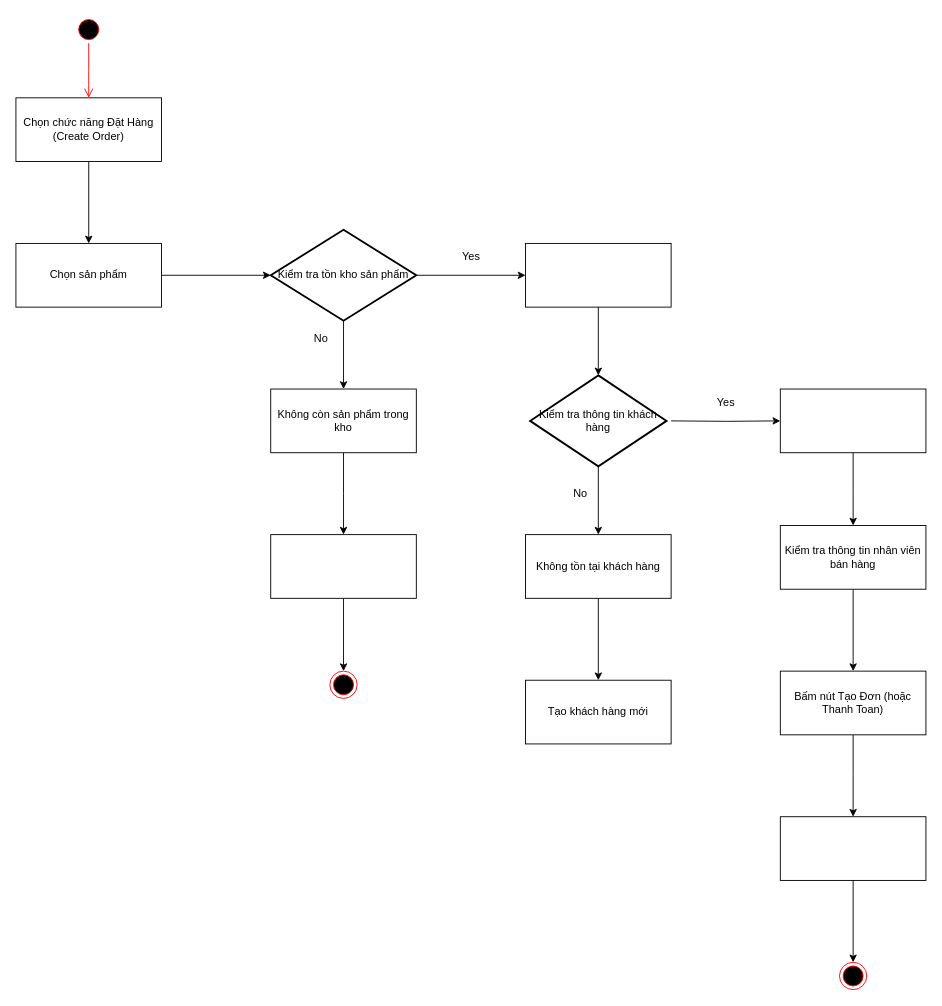
This 942x1006 diagram has some shape labels left out. Here are the shapes that lost their labels. From the top down, the centre of each, then its label:
At pixel 598 275: "Chọn khách hàng".
At pixel 852 420: "Chọn hình thức thanh toán".
At pixel 343 566: "Thông báo đến khách hàng sản phẩm không còn trong kho".
At pixel 852 848: "Thông báo tạo đơn hàng thành công".
